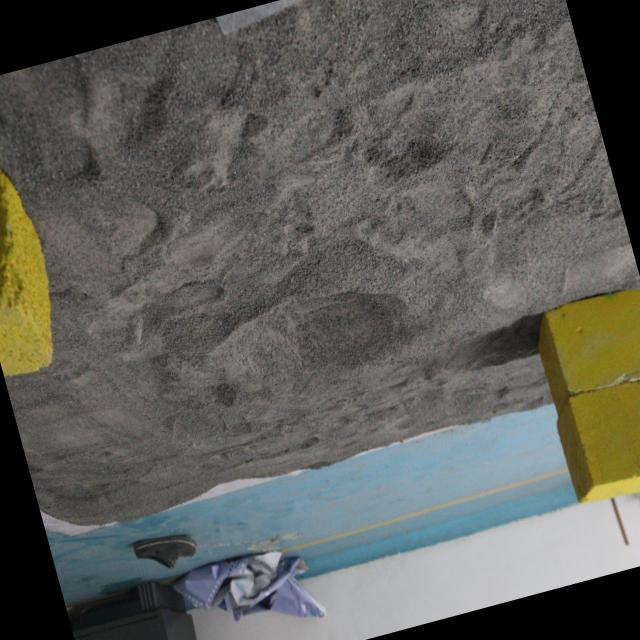box: (514, 276, 640, 518)
crater: (187, 246, 440, 429)
